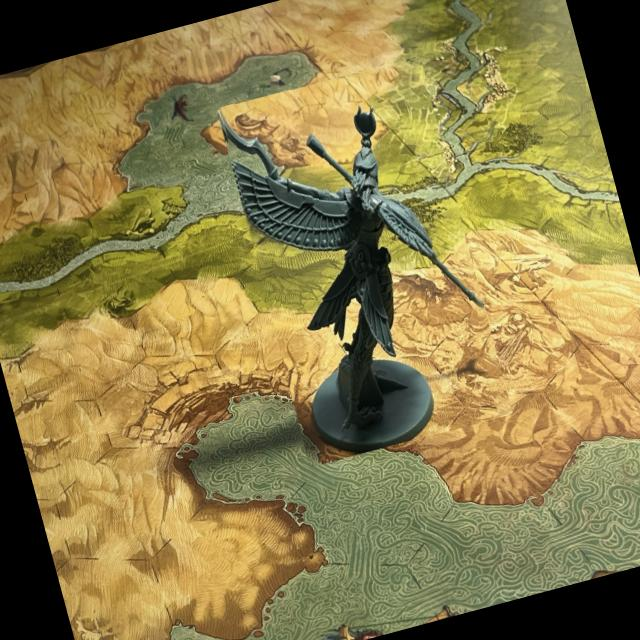isis: (214, 55, 514, 468)
